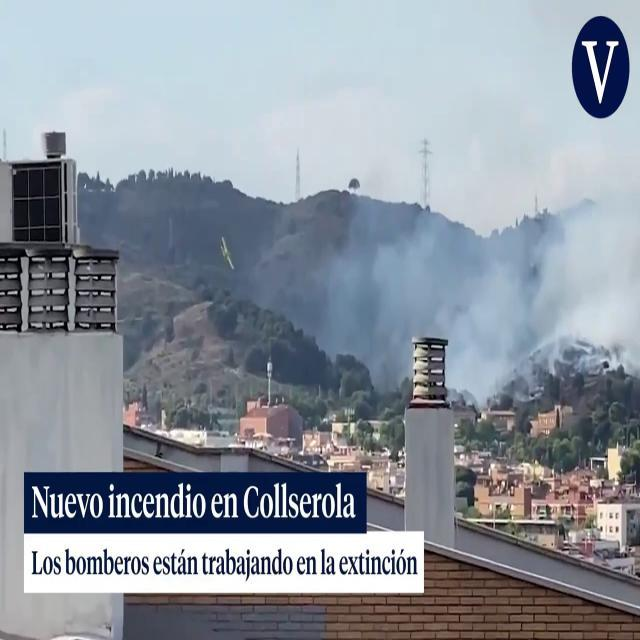Smoke: (314, 100, 640, 403)
